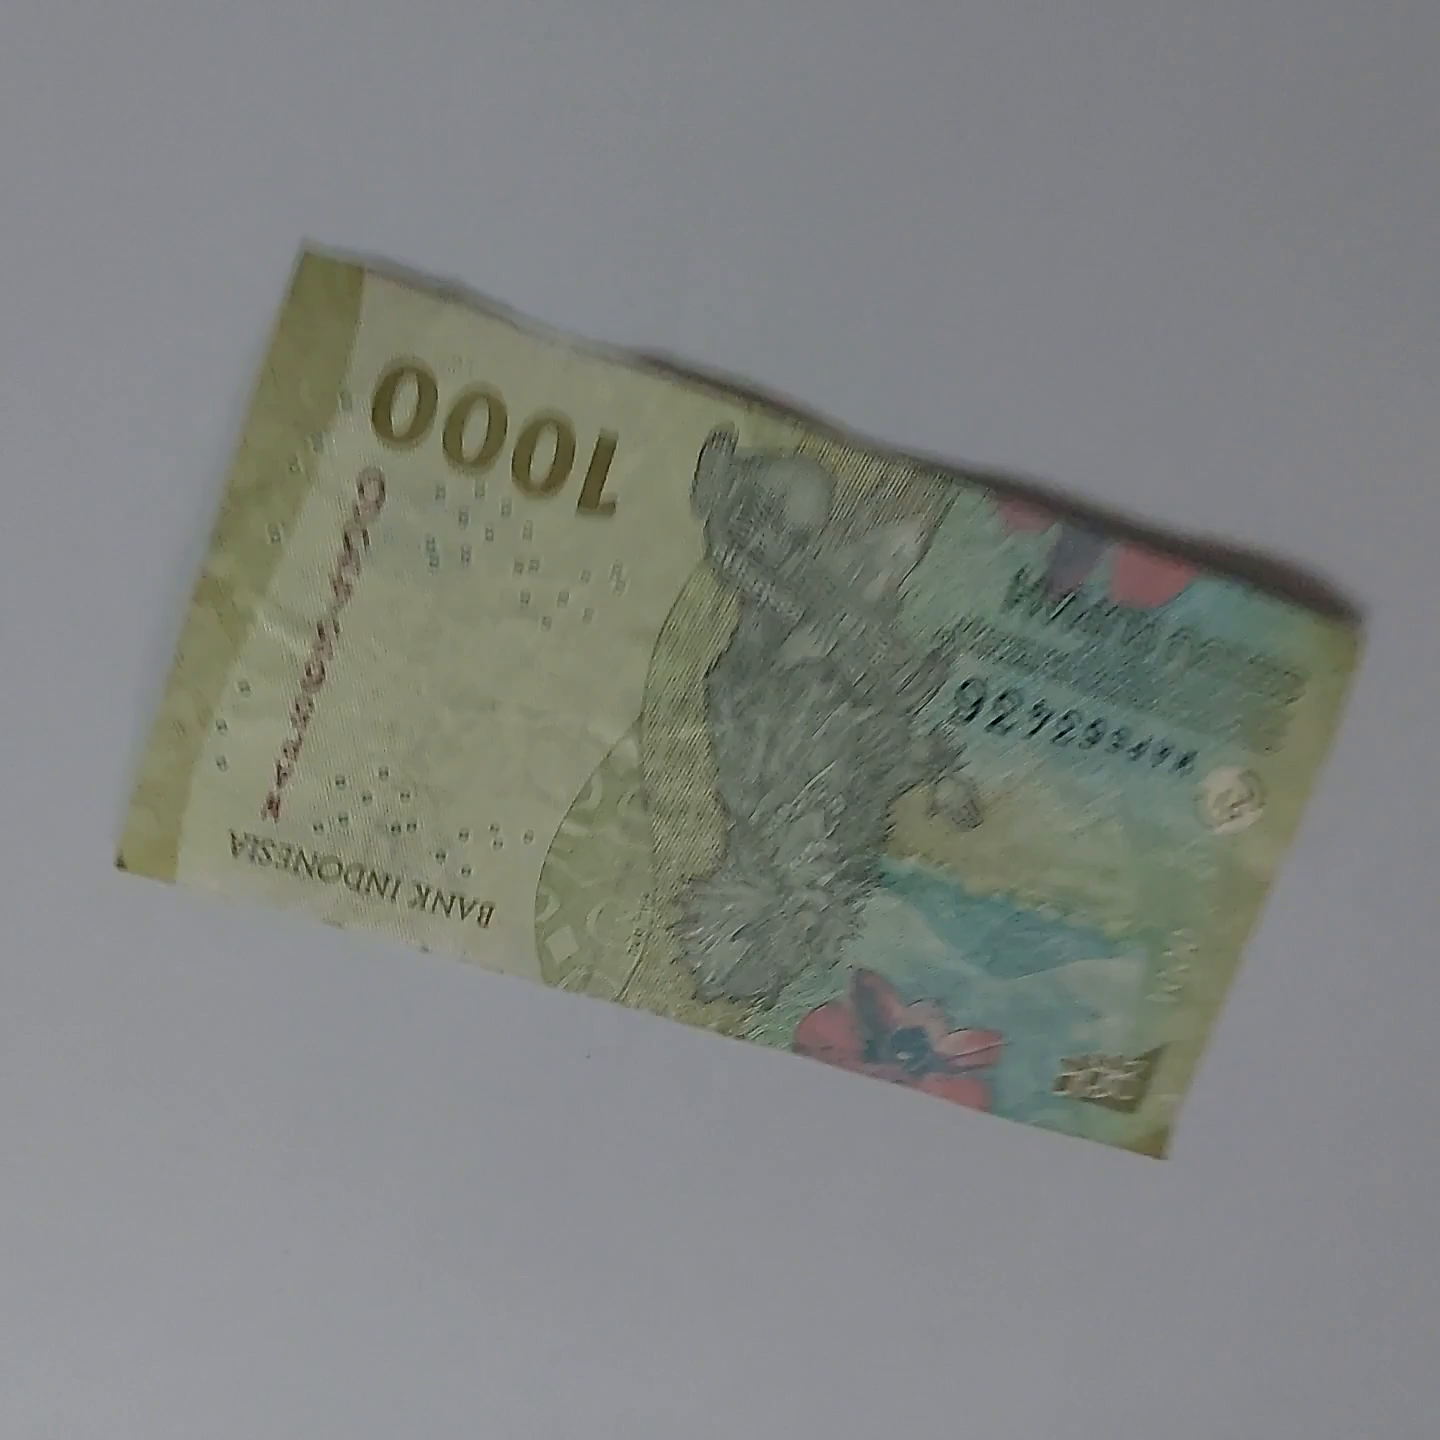1k: (222, 236, 1440, 872)
